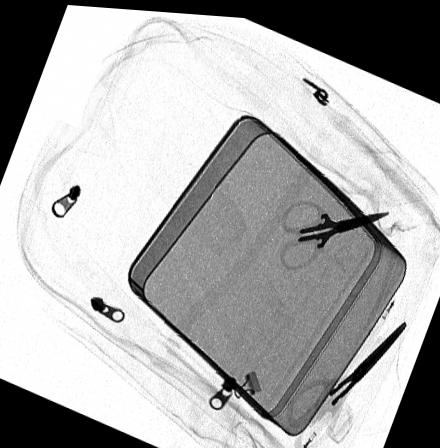Scissors: (285, 310, 410, 448), (277, 191, 394, 267)
